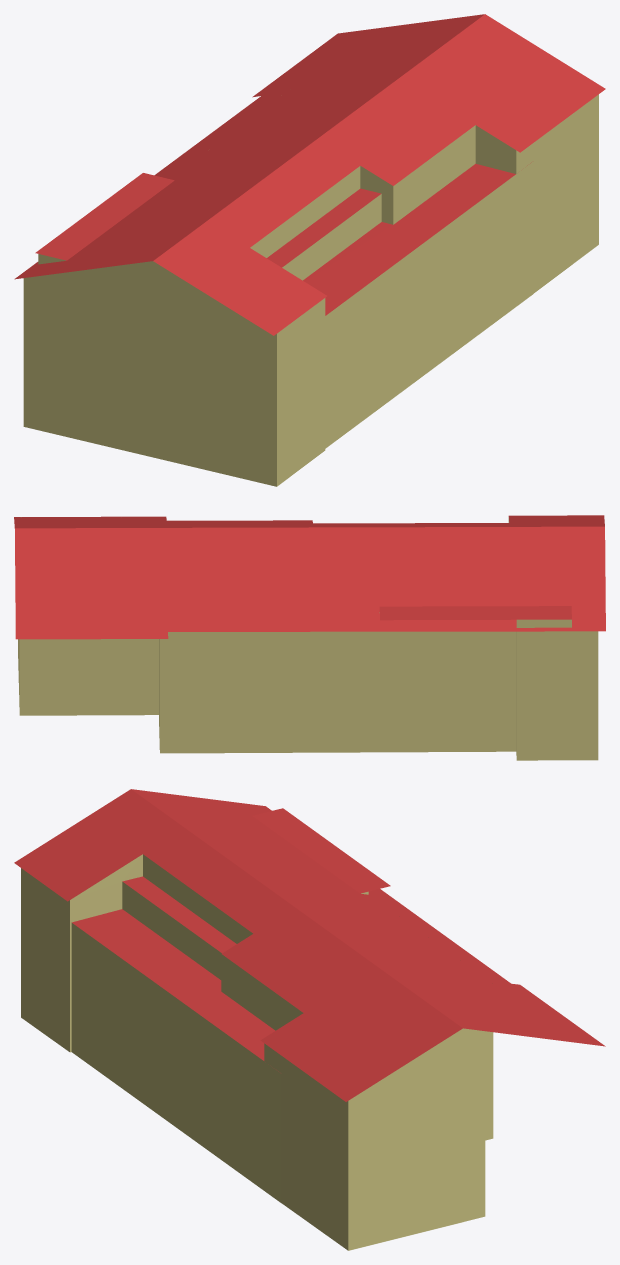
3 renders of one model, top to bottom at view 1: azimuth 30°, elevation 25°; view 2: azimuth 150°, elevation 25°; view 3: azimuth 270°, elevation 25°, orthographic. The views are drawn at different scales.
Size of the model in its own units: 55.35 by 45.89 by 16.79.
